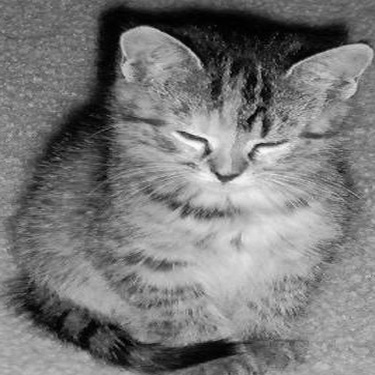cat: (16, 8, 371, 372)
